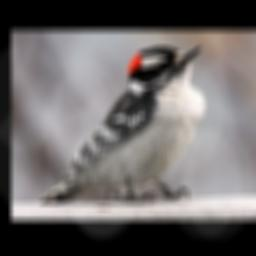Woodpecker: (40, 46, 208, 205)
